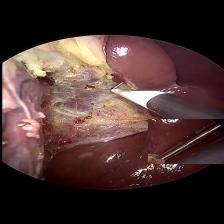Grasper: (147, 120, 223, 164)
Hook: (99, 76, 165, 112)
